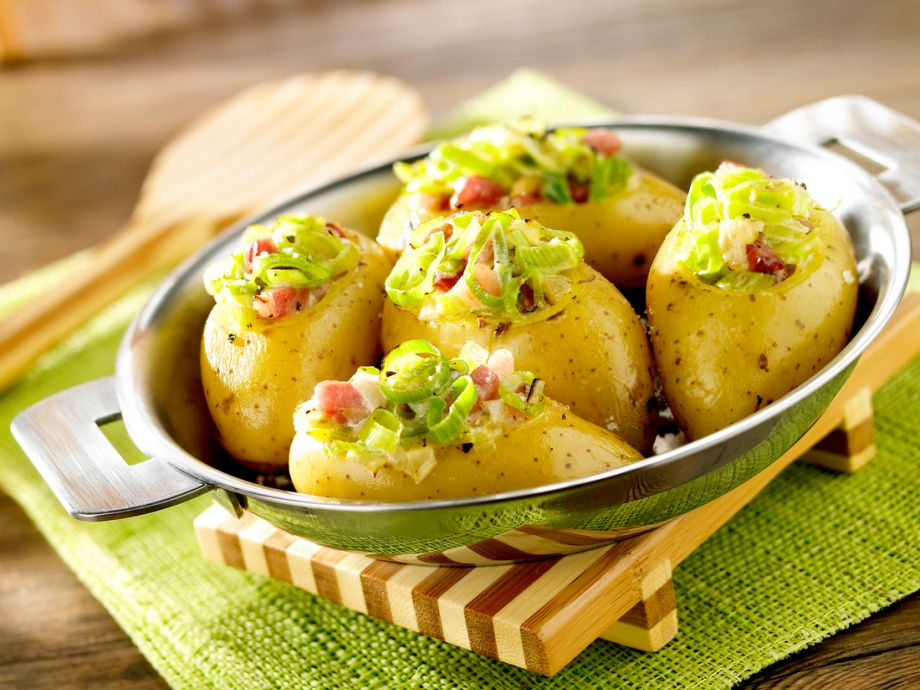boiled potatoes: (233, 119, 829, 508)
